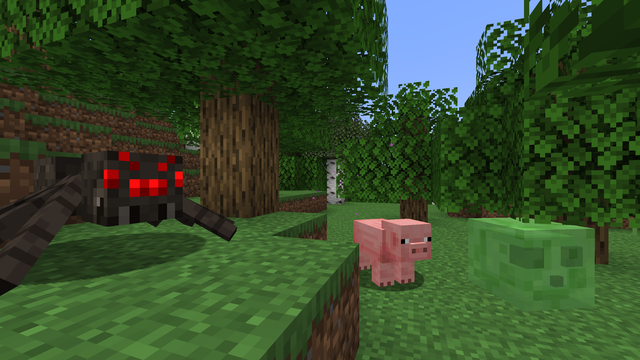araignees: (11, 127, 229, 296)
cochons: (350, 217, 409, 288)
slimes: (474, 214, 594, 316)
